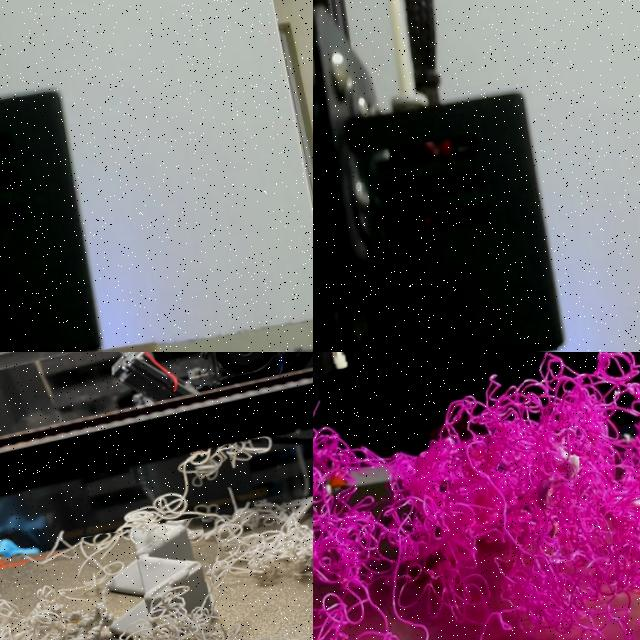spaghetti: (313, 352, 640, 640), (137, 396, 313, 640)
